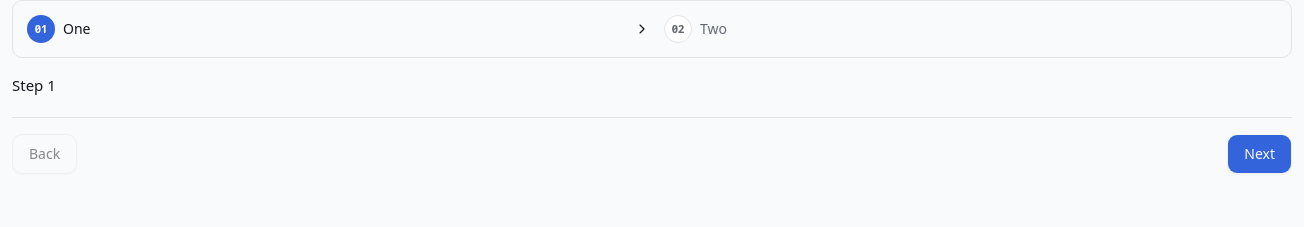
Test: Wizard › keeps the user on an invalid step and exposes an inline error
Check: the button "01 One" is shown, box [17, 5, 630, 53]
Click the button "Next" at [1260, 154], box [1227, 134, 1292, 174]
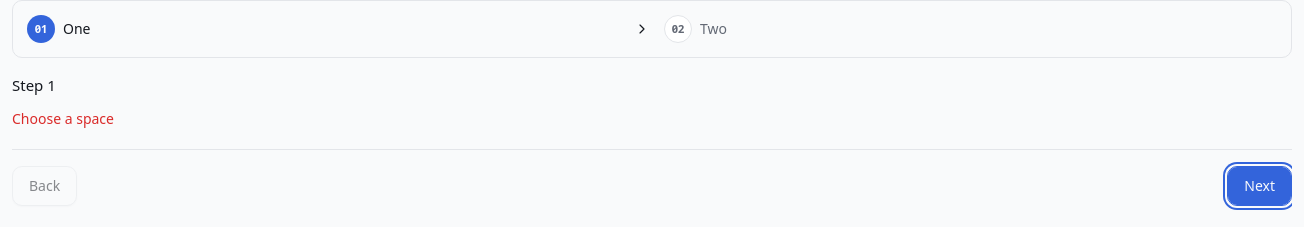
Check: the text "Step 1" is shown, box [12, 75, 56, 95]
Check: the message reads "Choose a space", box [12, 108, 114, 128]
